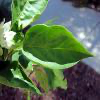Bell_pepper leaf: (21, 23, 95, 67)
